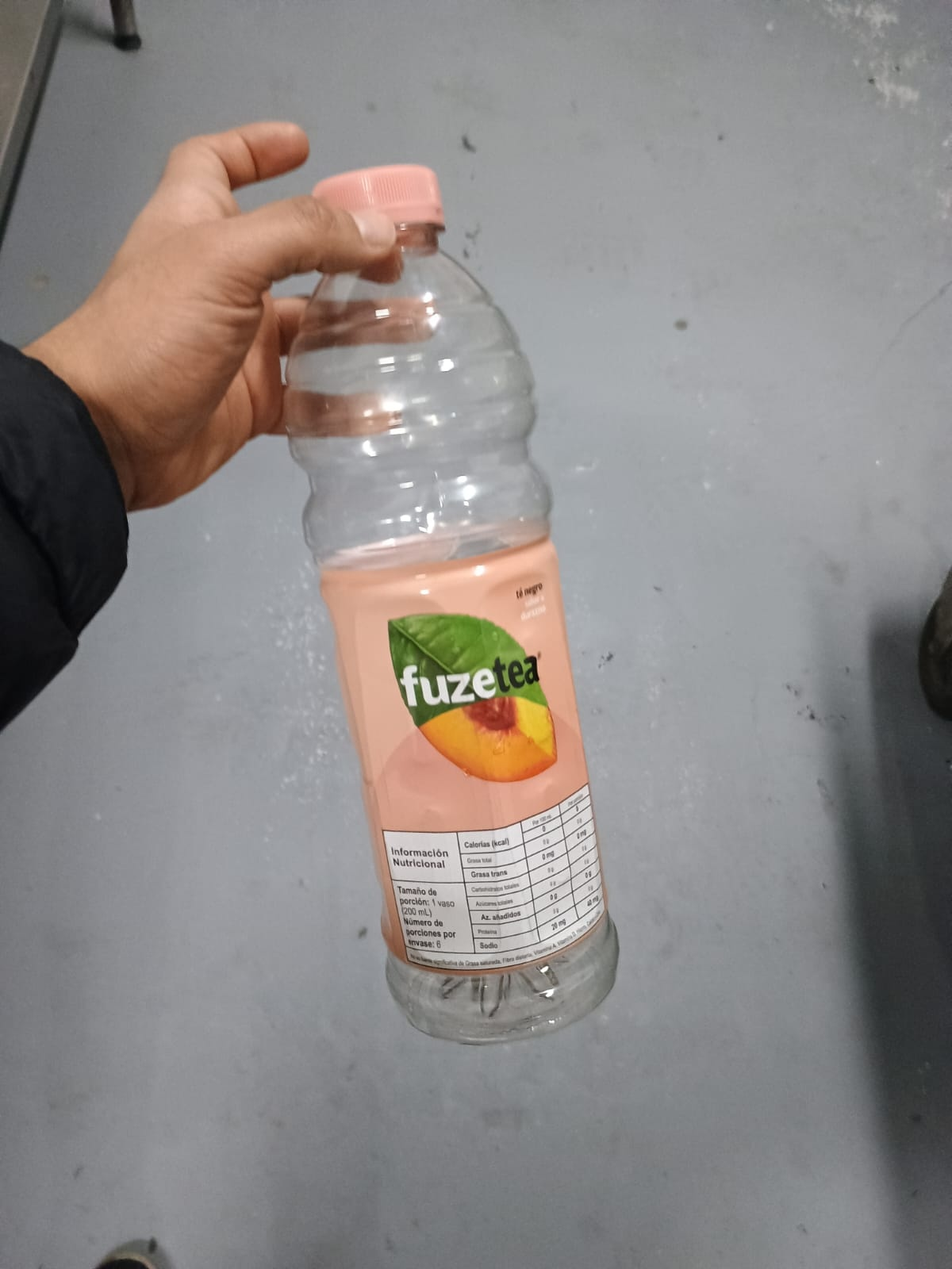Plastico: (292, 165, 620, 1044)
